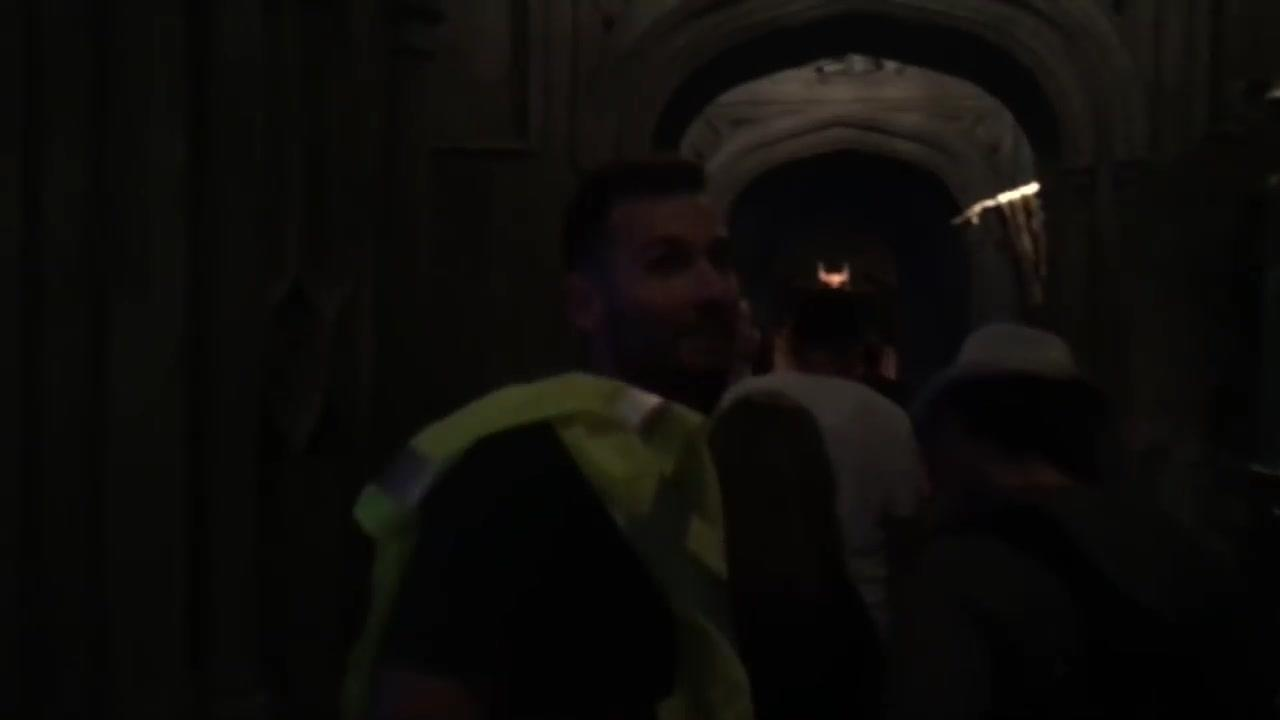vest: (338, 368, 754, 707)
